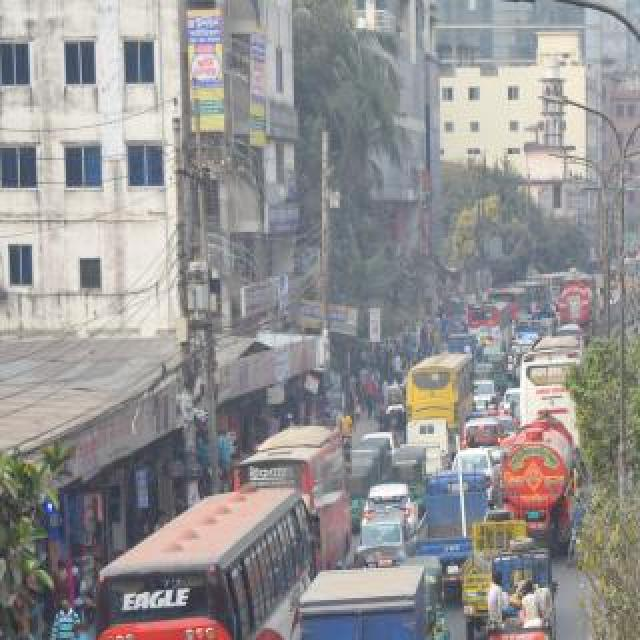bus: (94, 486, 312, 640), (236, 425, 350, 571), (519, 336, 583, 432), (406, 351, 474, 431), (468, 301, 512, 351)
car: (360, 506, 414, 560), (367, 484, 417, 528), (472, 381, 500, 413), (478, 638, 572, 640)
truck: (503, 417, 579, 545), (556, 276, 596, 336)
van: (306, 570, 432, 640), (419, 463, 487, 571), (488, 538, 558, 640), (463, 517, 531, 621), (403, 417, 449, 477), (462, 419, 504, 467)
